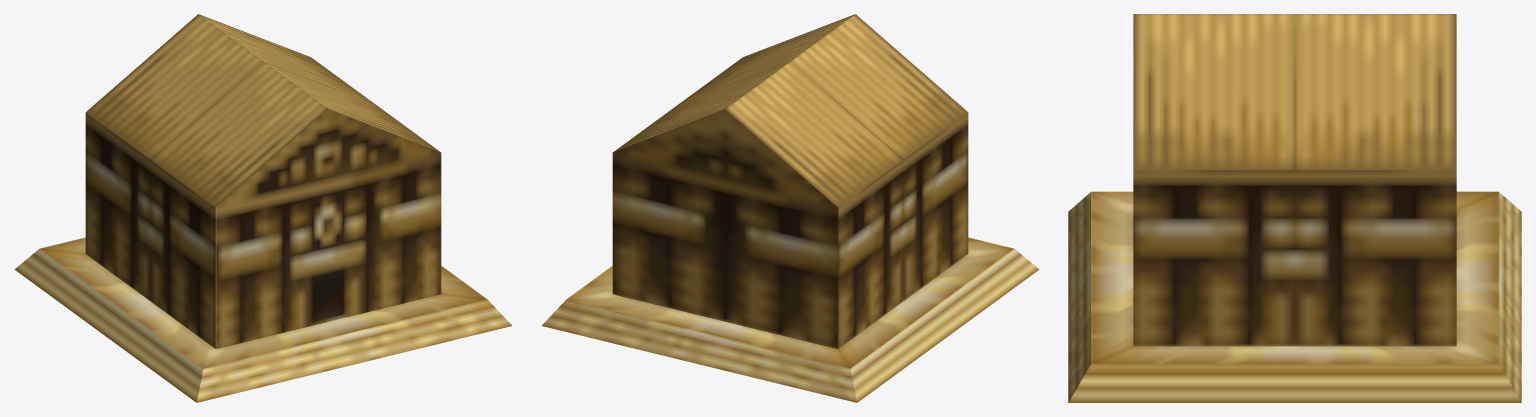
File: Poly_World_Map_Ancient_Building_01.obj
3 views of the same model, side by side, from view 1: azimuth 30°, elevation 25°; view 2: azimuth 150°, elevation 25°; view 3: azimuth 270°, elevation 25° (orthographic). The views are drawn at different scales.
Visible parts, largest first — view 1: Cube_Cube.002; view 2: Cube_Cube.002; view 3: Cube_Cube.002.
Part boxes in pixels (box(x1,y1,x2,y2)): Cube_Cube.002: box(14, 14, 511, 402); Cube_Cube.002: box(542, 14, 1039, 402); Cube_Cube.002: box(1068, 14, 1521, 402).
Size of the model in its own units: 1.4 by 1 by 1.4.
Materials: 1 (1 with a texture image).
